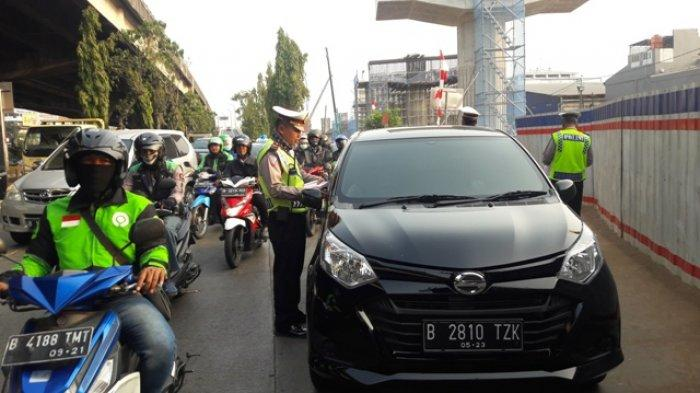plate: (424, 320, 520, 350), (5, 330, 89, 359), (221, 187, 245, 197), (194, 180, 209, 187)
